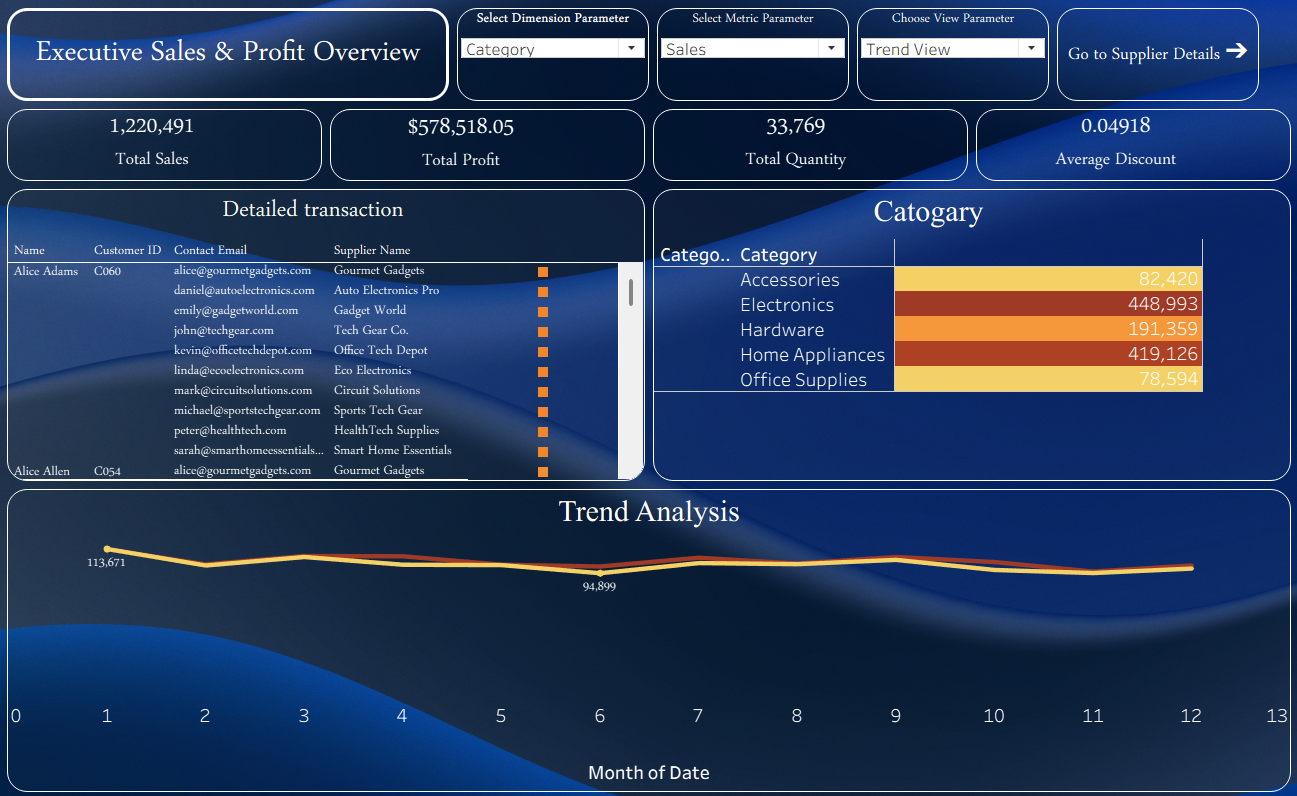

The page's visual inventory and layout, read from the dashboard file:
{"tool":"tableau","page":{"name":"Executive Overview","canvas":[1300,800],"ordinal":0},"visuals":[{"type":"image","param":"D:/ITI Power BI/tableou/1920x1080.png","box":[0,0,1300,800]},{"type":"text","box":[4,4,450,101]},{"type":"parameter","param":"[Parameters].[Parameter 2]","box":[454,4,200,101]},{"type":"parameter","param":"[Parameters].[Parameter 1]","box":[654,4,200,101]},{"type":"parameter","param":"[Parameters].[Parameter 3]","box":[854,4,200,101]},{"type":"dashboard-object","box":[1054,4,210,101]},{"type":"worksheet","title":"Total Sales","mark":"Automatic","box":[4,105,323,80]},{"type":"worksheet","title":"Total Profit","mark":"Automatic","box":[327,105,323,80]},{"type":"worksheet","title":"Total Quantity","mark":"Automatic","box":[650,105,323,80]},{"type":"worksheet","title":"Average Discount","mark":"Automatic","box":[973,105,323,80]},{"type":"worksheet","title":"Detailed transaction","mark":"Automatic","rows":["Name","Customer_ID","Contact_Email","Supplier_Name"],"box":[4,185,646,300]},{"type":"worksheet","title":"Catogary","mark":"Square","rows":["Calculation_0918095958786054","Category"],"box":[650,185,646,300]},{"type":"worksheet","title":"Table View","mark":"Square","rows":["Calculation_0918095922536451"],"box":[4,471.1,1292,258.7]},{"type":"worksheet","title":"Trend Analysis","mark":"Line","rows":["Quantity","Calculation_0918095921233922"],"cols":["Date"],"box":[4,485,1292,311]}]}

Visuals, with their boxes in screenshot pixels (x1, y1, x2, y2), scaled from the page's 1300x800 canvas onto the 1297x796 screenshot:
image: [0, 0, 1296, 795]
text: [4, 4, 453, 104]
parameter: [453, 4, 652, 104]
parameter: [652, 4, 852, 104]
parameter: [852, 4, 1052, 104]
dashboard-object: [1052, 4, 1261, 104]
"Total Sales" worksheet: [4, 104, 326, 184]
"Total Profit" worksheet: [326, 104, 648, 184]
"Total Quantity" worksheet: [648, 104, 971, 184]
"Average Discount" worksheet: [971, 104, 1293, 184]
"Detailed transaction" worksheet: [4, 184, 648, 483]
"Catogary" worksheet (Square marks): [648, 184, 1293, 483]
"Table View" worksheet (Square marks): [4, 469, 1293, 726]
"Trend Analysis" worksheet (Line marks): [4, 483, 1293, 792]
